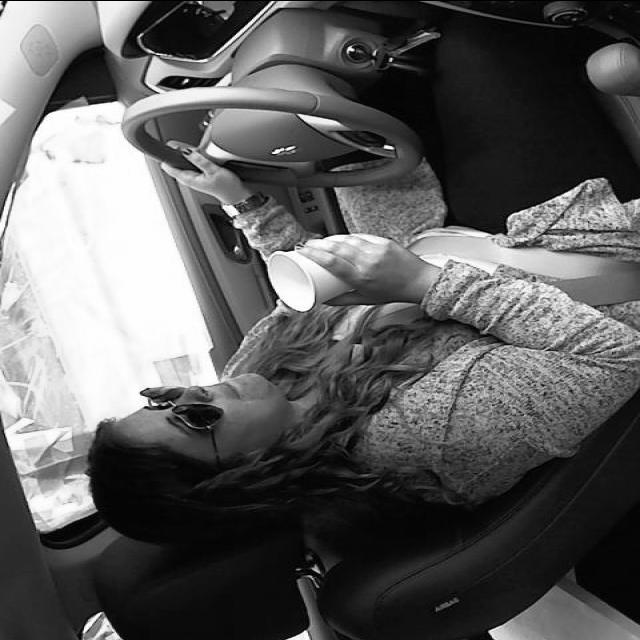drinking: (262, 238, 386, 312)
